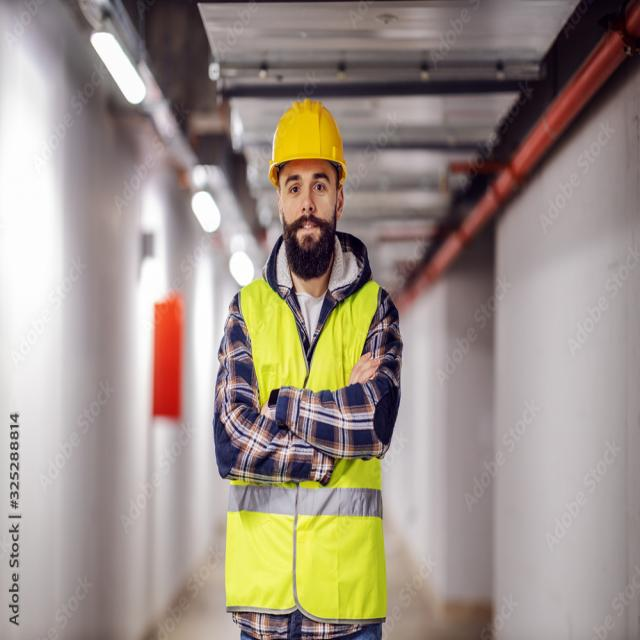helmet: (266, 94, 350, 190)
no-goggles: (274, 158, 343, 210)
vest: (222, 270, 390, 625)
